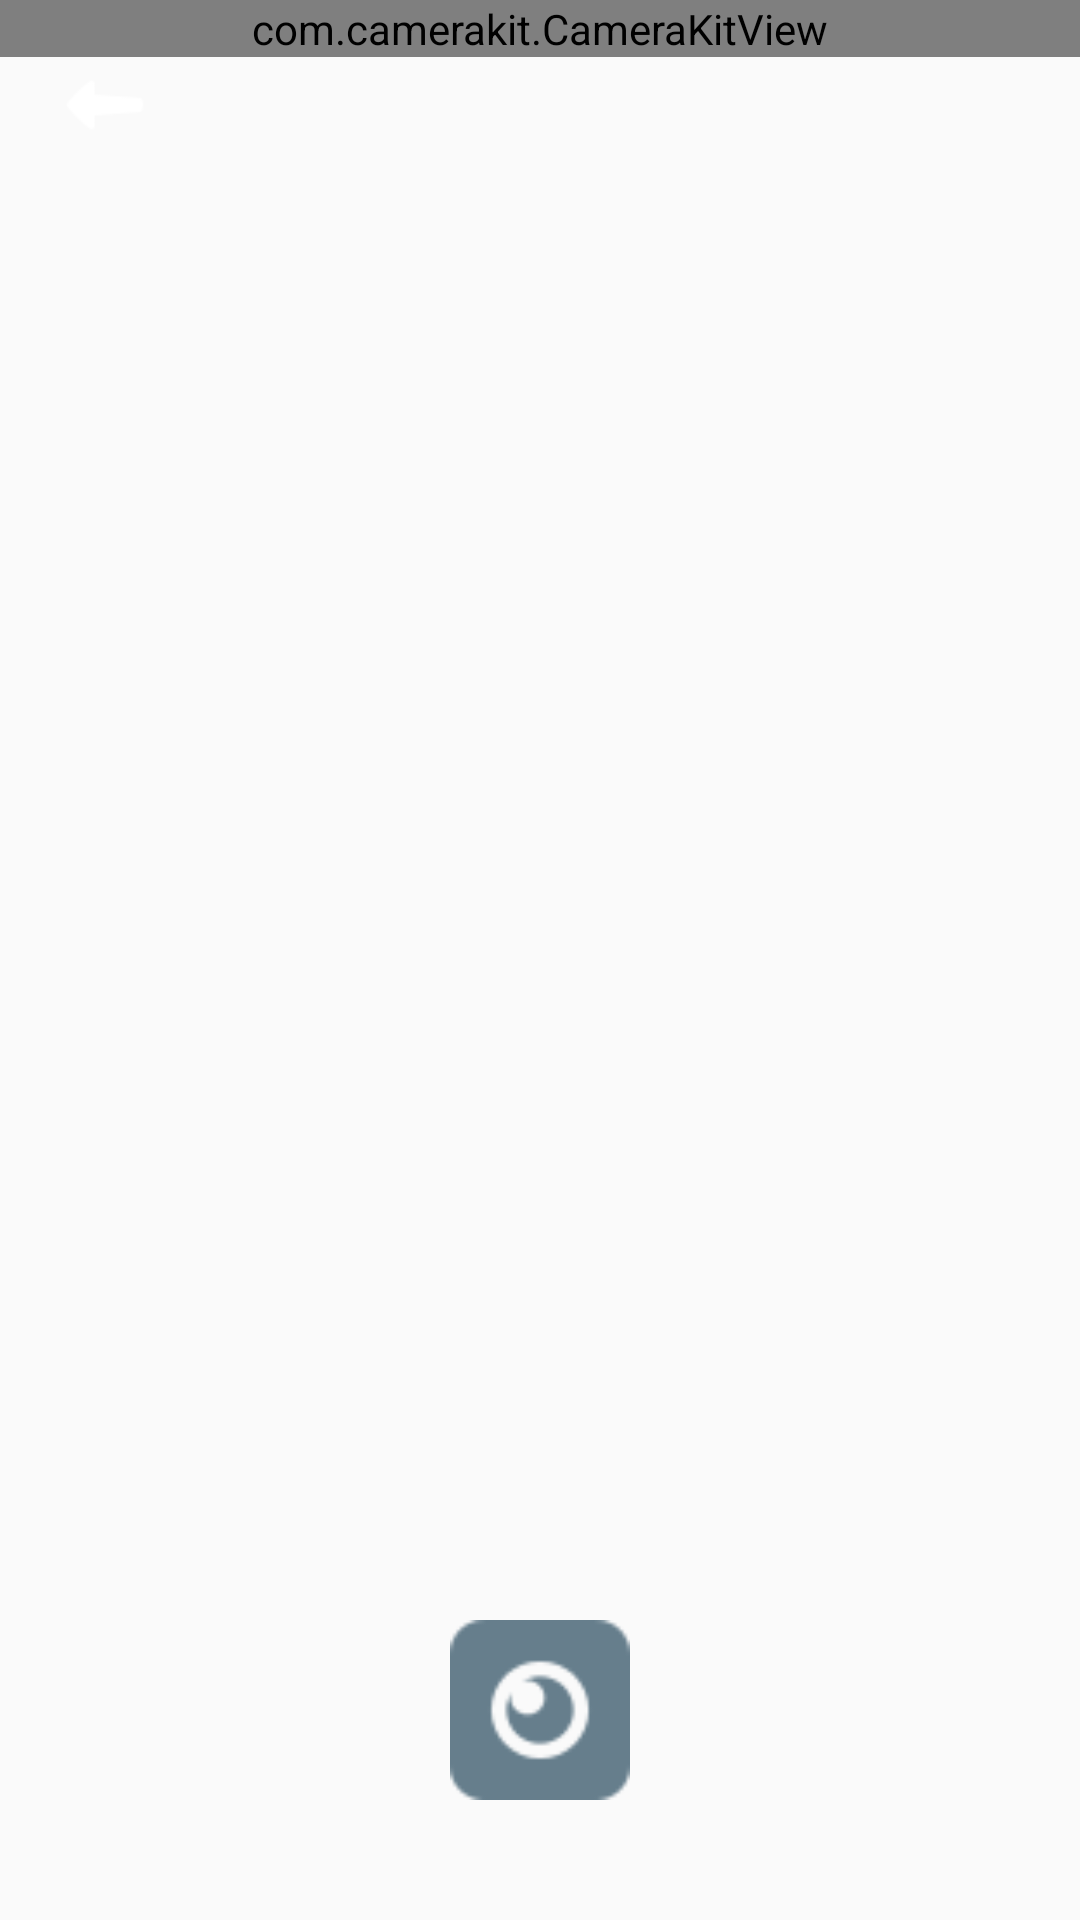

Where icons sit on this 1080px x 1920px app screen, as (x1, y1, x2, y2):
cam: (450, 1620, 630, 1800)
